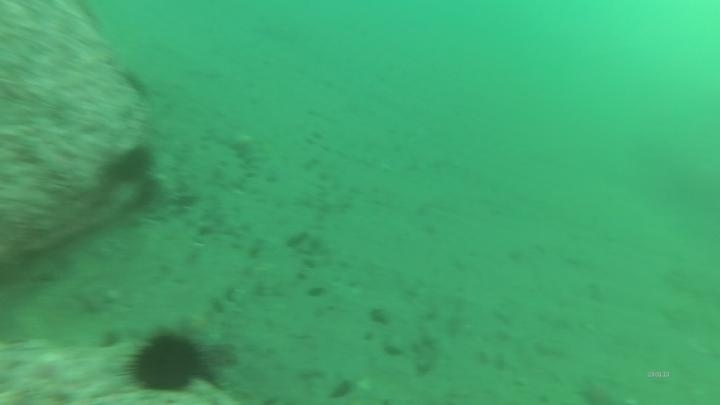echinus: (123, 329, 209, 396), (102, 142, 156, 186)
